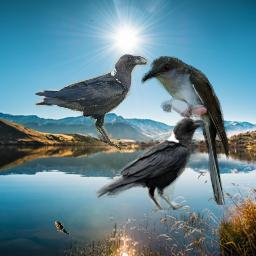Crow: (94, 114, 209, 214), (34, 54, 149, 149)
Cuckoo: (141, 56, 232, 205)
Swallow: (55, 221, 70, 236)
